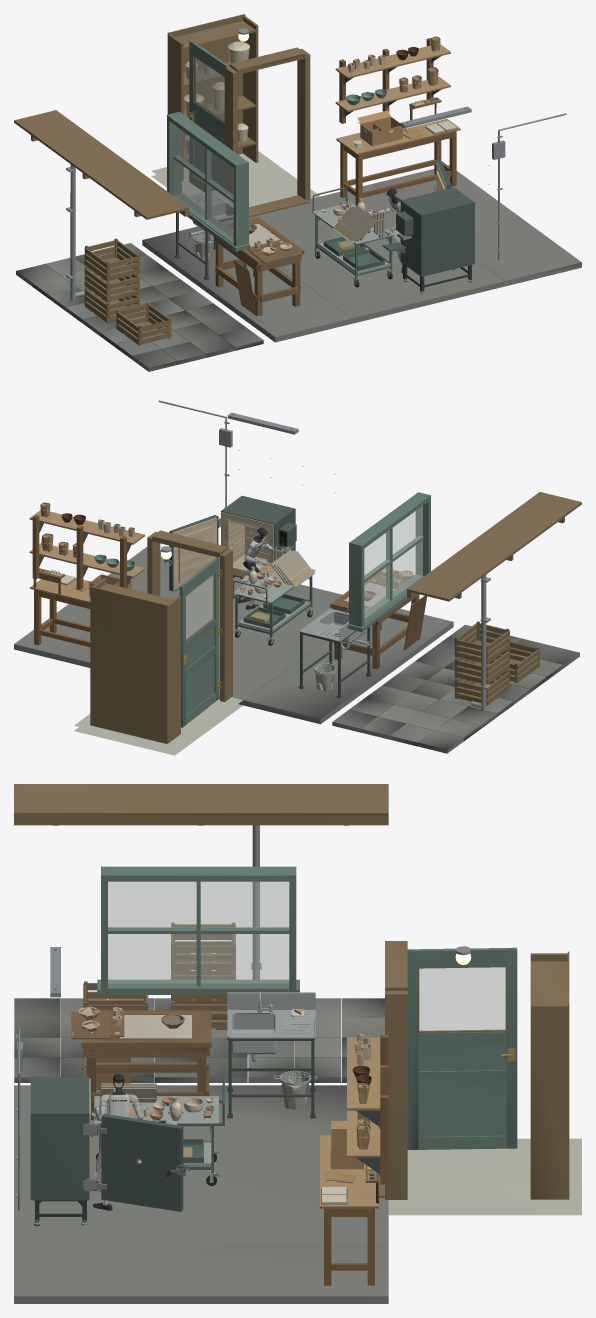
The model's file is mini.glb.
The picture shows the model from 3 angles, top to bottom: view 1: azimuth 30°, elevation 25°; view 2: azimuth 150°, elevation 25°; view 3: azimuth 270°, elevation 25°; orthographic projection. The views are drawn at different scales.
Parts seen in each view (by area): view 1: part/entry_vestibule/collection_shelving, part/entry_vestibule/latch_lever, part/entry_vestibule/upper_light, part/shelf_3/body; view 2: part/entry_vestibule/collection_shelving, part/entry_vestibule/latch_lever, part/entry_vestibule/upper_light, part/kiln/door_firebrick, part/shelf_3/body; view 3: part/entry_vestibule/collection_shelving, part/entry_vestibule/latch_lever, part/entry_vestibule/upper_light, part/kiln/door_pan.
Boxes of the visible parts, box(x1,y1,x2,y2) form: part/entry_vestibule/collection_shelving: box(14, 14, 581, 371); part/entry_vestibule/latch_lever: box(66, 28, 566, 300); part/entry_vestibule/upper_light: box(174, 57, 233, 238); part/shelf_3/body: box(339, 207, 370, 241); part/entry_vestibule/collection_shelving: box(14, 492, 581, 755); part/entry_vestibule/latch_lever: box(29, 400, 490, 711); part/entry_vestibule/upper_light: box(186, 506, 422, 639); part/kiln/door_firebrick: box(172, 517, 217, 589); part/shelf_3/body: box(277, 551, 312, 585); part/entry_vestibule/collection_shelving: box(14, 784, 581, 1303); part/entry_vestibule/latch_lever: box(15, 825, 515, 1267); part/entry_vestibule/upper_light: box(108, 881, 505, 1031); part/kiln/door_pan: box(101, 1114, 185, 1211).
Size of the model in its own units: 6.81 by 2.6 by 5.46.
9 materials, 9 textured.
